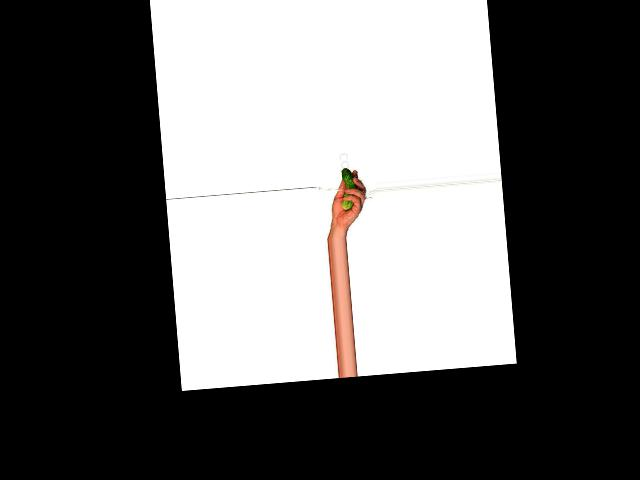cucumber: (339, 167, 358, 210)
